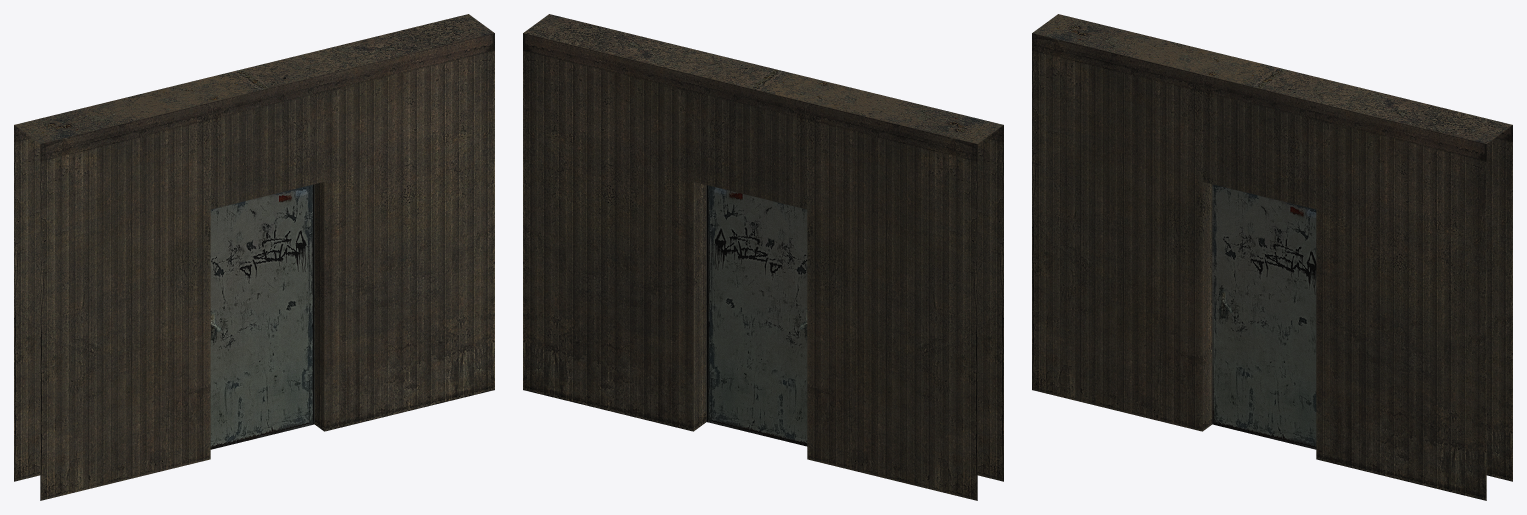
The model's file is doorway_rx_1.glb.
3 renders of one model, left to right at view 1: azimuth 30°, elevation 25°; view 2: azimuth 150°, elevation 25°; view 3: azimuth 330°, elevation 25°, orthographic.
Visible parts, largest first — view 1: doorway_rx_1, door_hr_11; view 2: doorway_rx_1, door_hr_11; view 3: doorway_rx_1, door_hr_11.
Boxes of the visible parts, x1,y1,x2,y2 form: doorway_rx_1: (14, 14, 494, 500); door_hr_11: (210, 184, 314, 449); doorway_rx_1: (523, 14, 1003, 500); door_hr_11: (706, 185, 807, 446); doorway_rx_1: (1032, 14, 1512, 500); door_hr_11: (1212, 184, 1316, 449).
Bounding box in the file's own units: 4 × 3 × 0.4.
Materials: 3 (3 with a texture image).
